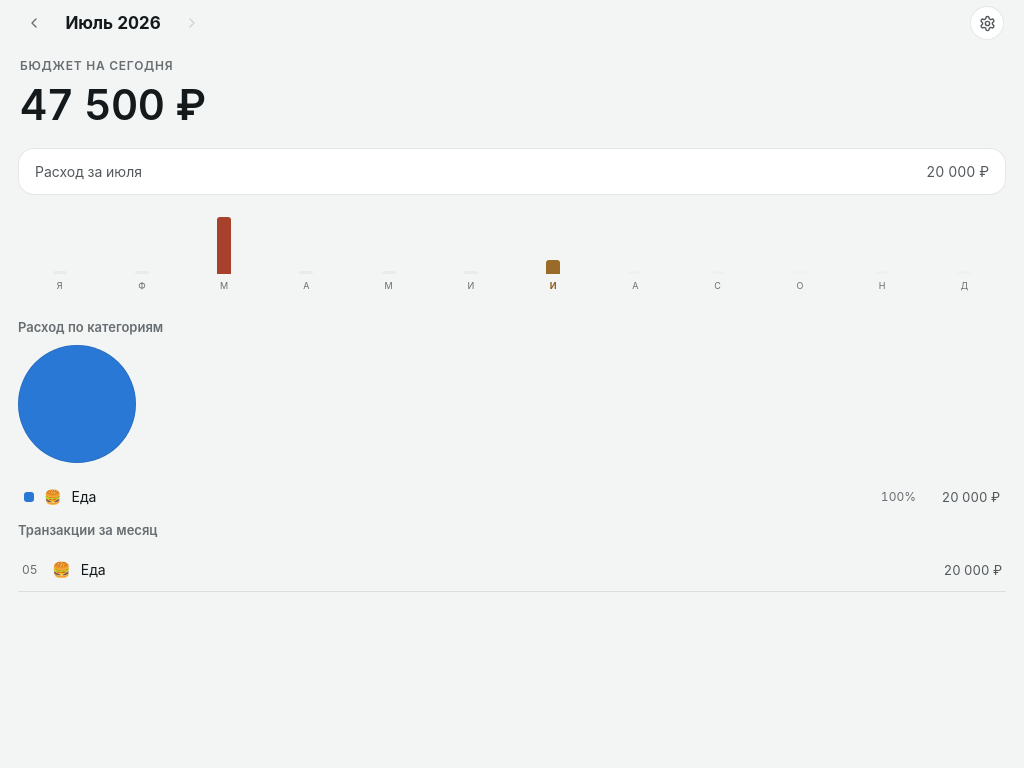
BudgetDashboard navigation to a past month › jumps to the clicked month when a MonthChart column is clicked
This screenshot has width=1024, height=768.
Click the 3rd button with class "month-chart__col" at (224, 254), box [184,217,264,291]
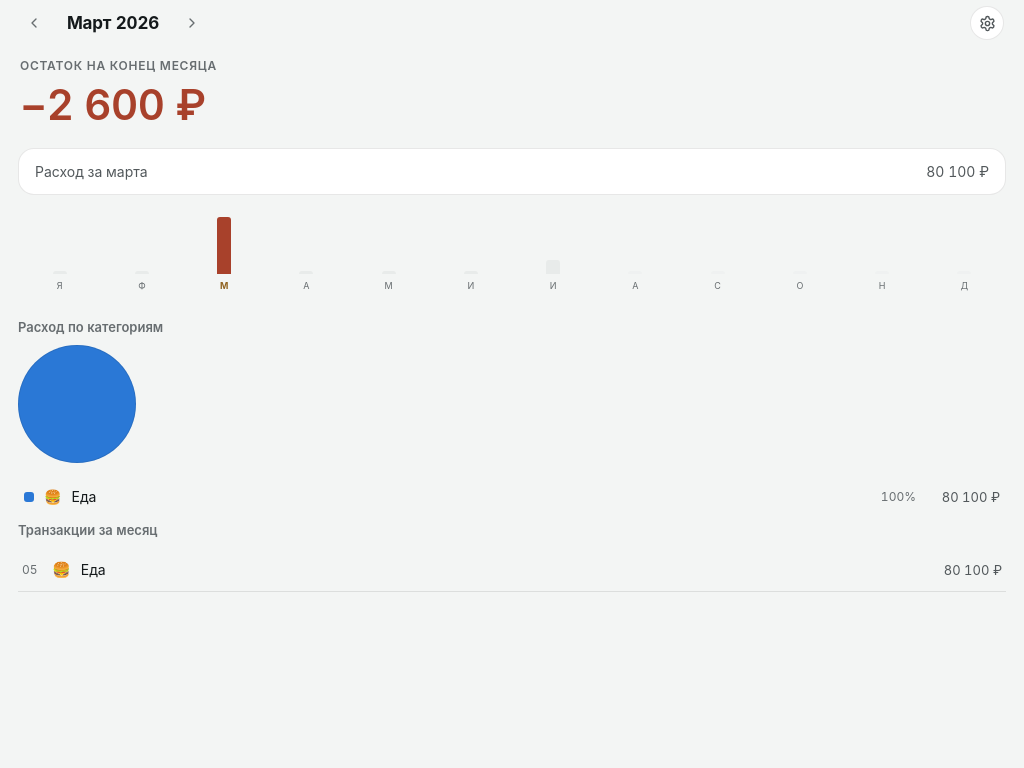
Check: the text with class "budget-dashboard__hero-value" reads "−2 600 ₽", box [20,79,206,130]
